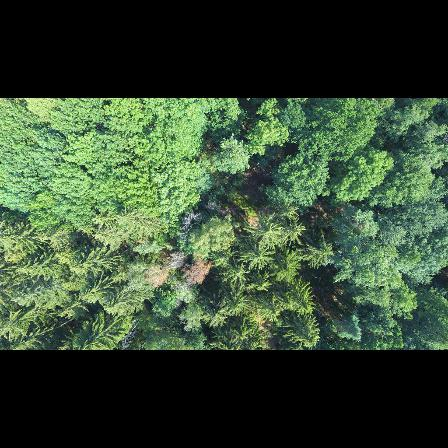Dead: (159, 248, 192, 273), (178, 210, 200, 238)
